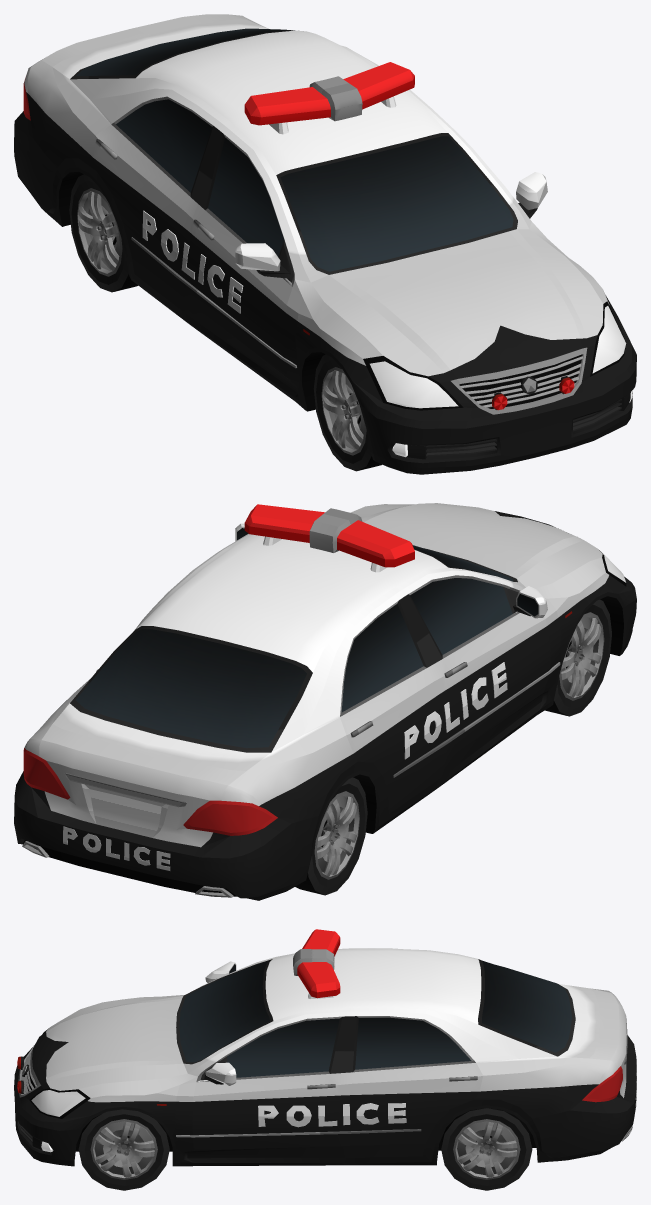
The model's file is Simple_Japanese_Car_V15.fbx.
The picture shows the model from 3 angles, top to bottom: view 1: azimuth 30°, elevation 25°; view 2: azimuth 150°, elevation 25°; view 3: azimuth 270°, elevation 25°; orthographic projection. The views are drawn at different scales.
Parts seen in each view (by area): view 1: Body.002, RR.002, FR.002; view 2: Body.002, RR.002, FR.002; view 3: Body.002, RL.002, FL.002.
Part boxes in pixels (<box>): Body.002: <box>14,14,636,474</box>; RR.002: <box>69,174,137,292</box>; FR.002: <box>313,354,381,471</box>; Body.002: <box>14,503,636,900</box>; RR.002: <box>295,777,367,895</box>; FR.002: <box>545,599,611,716</box>; Body.002: <box>14,929,636,1166</box>; RL.002: <box>441,1108,532,1190</box>; FL.002: <box>78,1109,169,1190</box>.
Bounding box in the file's own units: 2.09 × 1.67 × 4.9.
3 materials, 3 textured.
